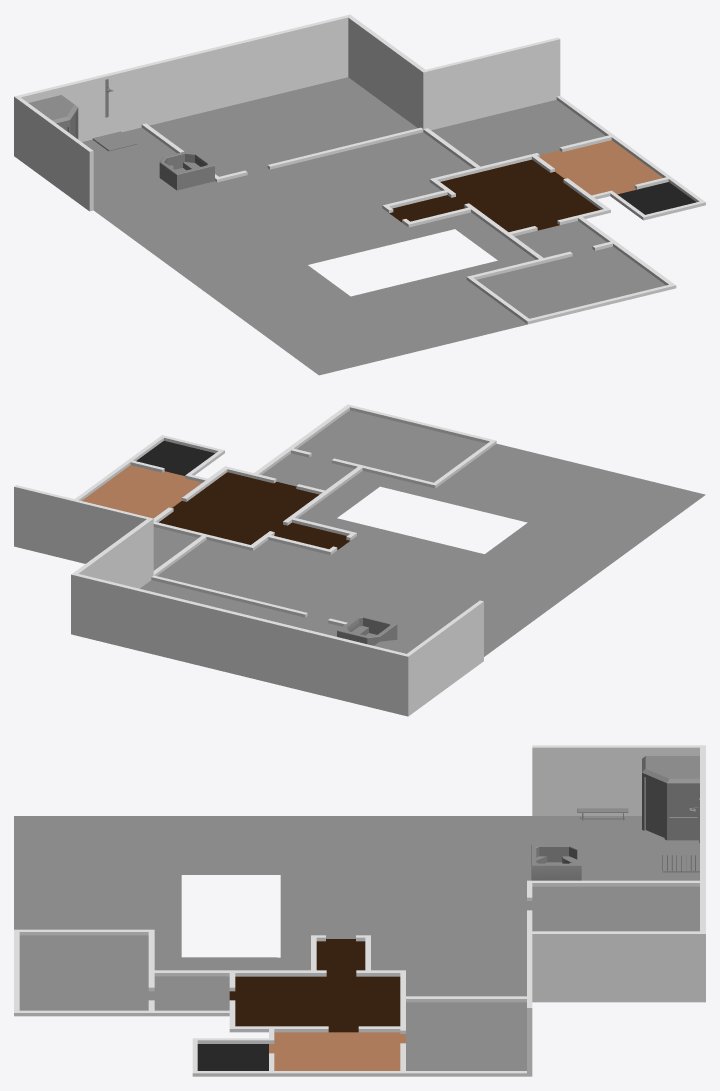
The model's file is Salle_08.FBX.
3 renders of one model, top to bottom at view 1: azimuth 30°, elevation 25°; view 2: azimuth 150°, elevation 25°; view 3: azimuth 270°, elevation 25°, orthographic. The views are drawn at different scales.
Visible parts, largest first — view 1: Piece_08, Jacuzzi, Sauna; view 2: Piece_08, Jacuzzi; view 3: Piece_08, Sauna, Jacuzzi, Planche_Douche.
Boxes of the visible parts, left/top/right/bottom form: Piece_08: left=14, top=14, right=705, bottom=375; Jacuzzi: left=159, top=149, right=214, bottom=190; Sauna: left=28, top=95, right=78, bottom=139; Piece_08: left=14, top=404, right=705, bottom=716; Jacuzzi: left=337, top=614, right=397, bottom=645; Piece_08: left=14, top=745, right=705, bottom=1076; Sauna: left=642, top=756, right=699, bottom=840; Jacuzzi: left=531, top=844, right=581, bottom=880; Planche_Douche: left=662, top=855, right=699, bottom=872.
Size of the model in its own units: 2467 by 300 by 2744.
